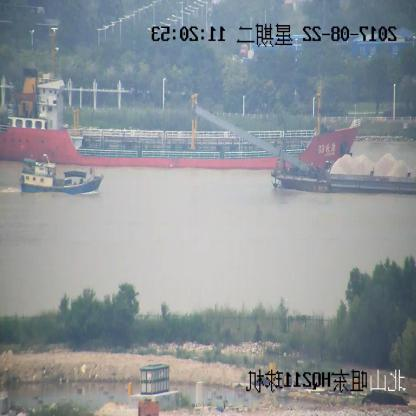Bulk Carrier: (0, 47, 362, 169)
